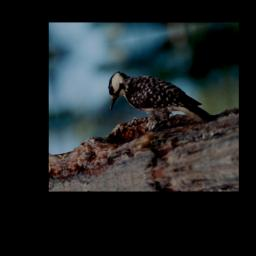Woodpecker: (102, 45, 221, 146)
